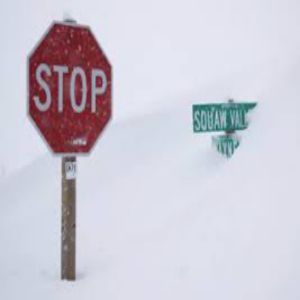STOP_SIGN: (26, 19, 113, 155)
